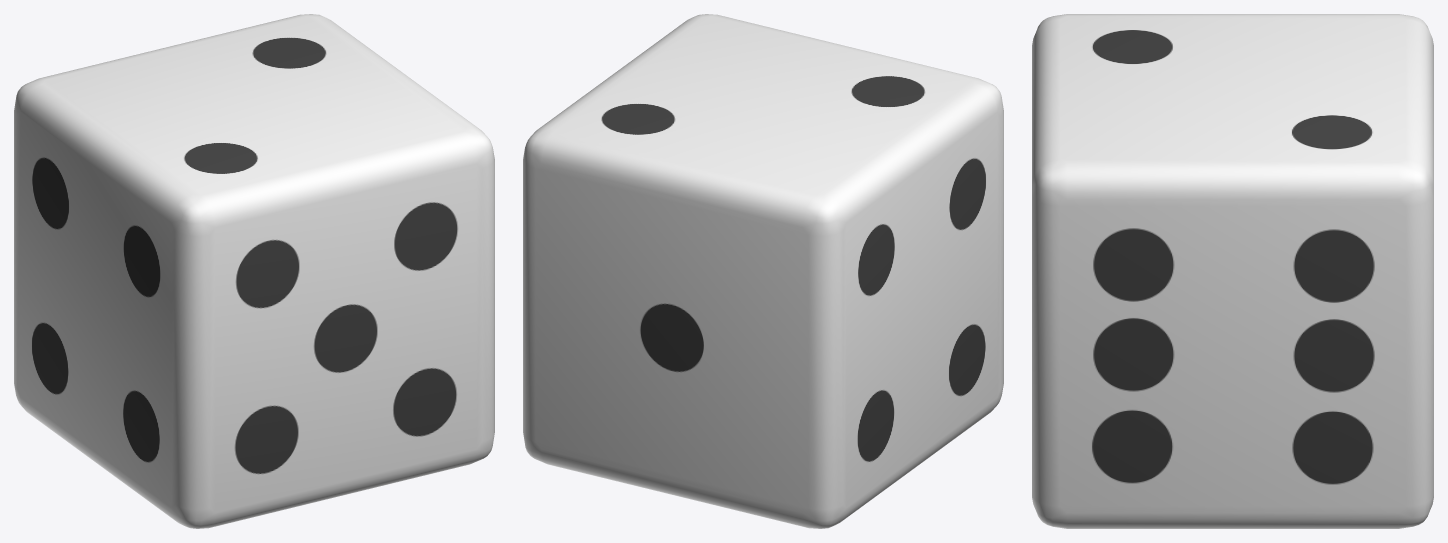
File: dice.obj
3 renders of one model, left to right at view 1: azimuth 30°, elevation 25°; view 2: azimuth 150°, elevation 25°; view 3: azimuth 270°, elevation 25°, orthographic. The views are drawn at different scales.
Visible parts, largest first — view 1: Dice_Low_Poly_Cube.000; view 2: Dice_Low_Poly_Cube.000; view 3: Dice_Low_Poly_Cube.000.
Part boxes in pixels (box(x1,y1,x2,y2)): Dice_Low_Poly_Cube.000: box(14, 14, 494, 528); Dice_Low_Poly_Cube.000: box(523, 14, 1003, 528); Dice_Low_Poly_Cube.000: box(1032, 14, 1433, 528).
Size of the model in its own units: 2 by 2 by 2.
Materials: 1 (1 with a texture image).
